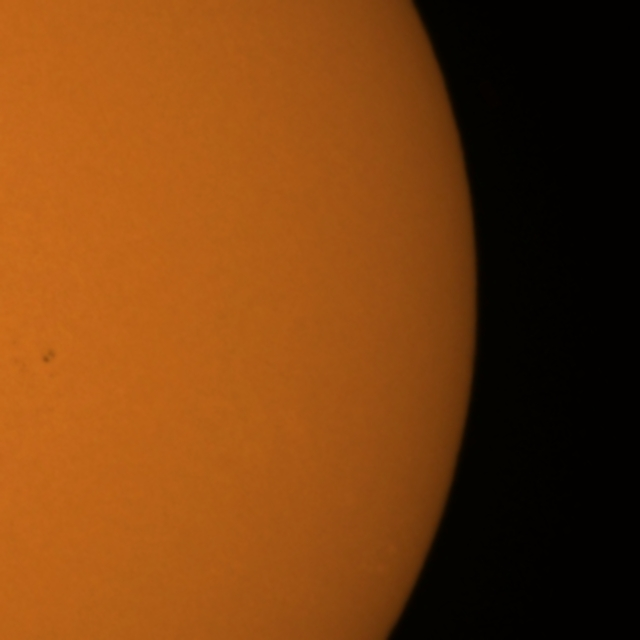sunspot: (40, 346, 58, 367)
